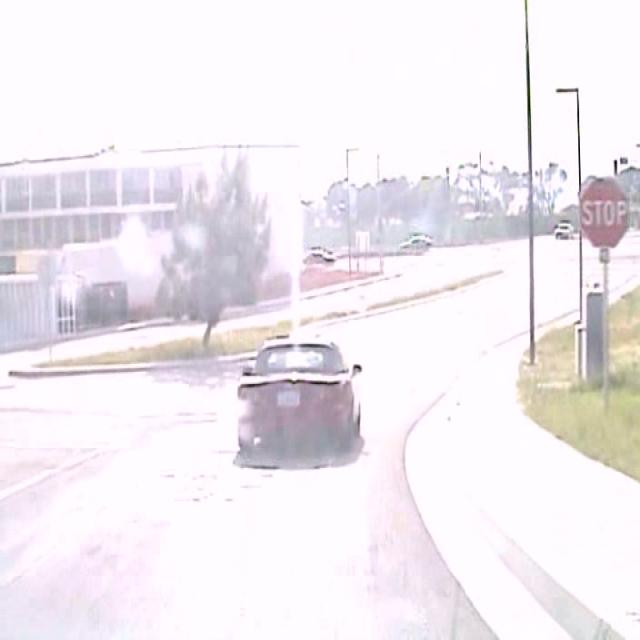stop_sign: (579, 175, 629, 248)
